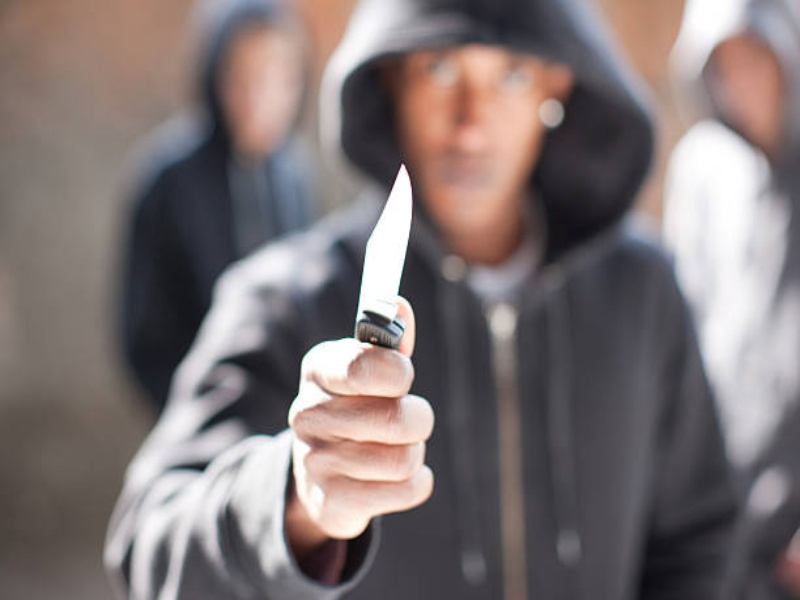bonnet: (319, 1, 659, 265)
hand: (283, 293, 434, 555)
knife: (351, 161, 413, 344)
person: (101, 3, 741, 600), (113, 2, 316, 375)
